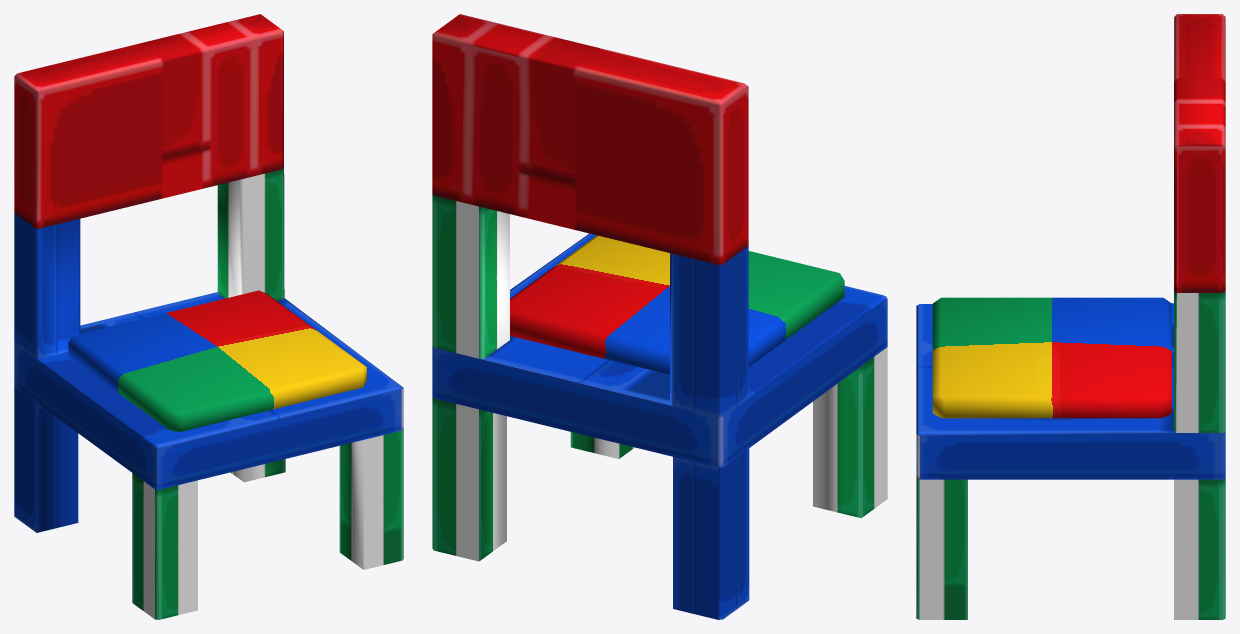
The model's file is rmk_col_chairS.dae.
3 views of the same model, side by side, from view 1: azimuth 30°, elevation 25°; view 2: azimuth 150°, elevation 25°; view 3: azimuth 270°, elevation 25° (orthographic). The views are drawn at different scales.
Visible parts, largest first — view 1: rmk_col_chairS; view 2: rmk_col_chairS; view 3: rmk_col_chairS.
Boxes of the visible parts, x1,y1,x2,y2 form: rmk_col_chairS: (14,14,403,619); rmk_col_chairS: (432,14,887,619); rmk_col_chairS: (916,14,1225,619).
Size of the model in its own units: 23.88 by 40.59 by 23.88.
Materials: 2 (2 with a texture image).
